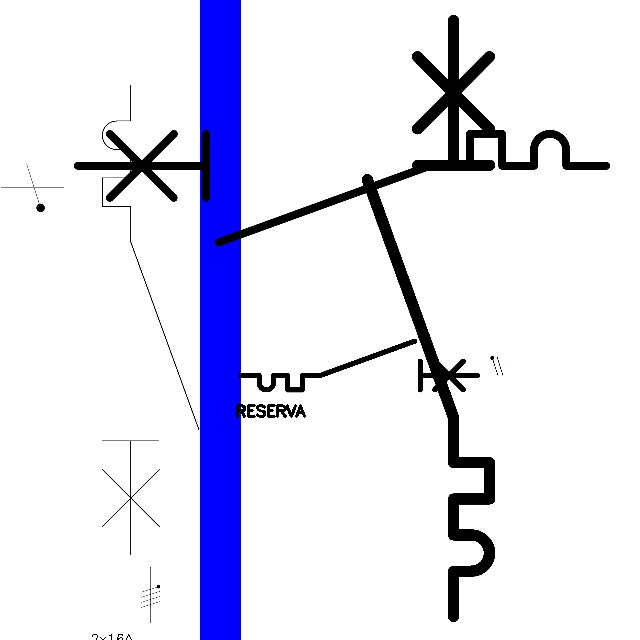interruptor_termomagnetico: (352, 5, 505, 632), (63, 120, 619, 256), (90, 73, 211, 567), (235, 335, 484, 396)
